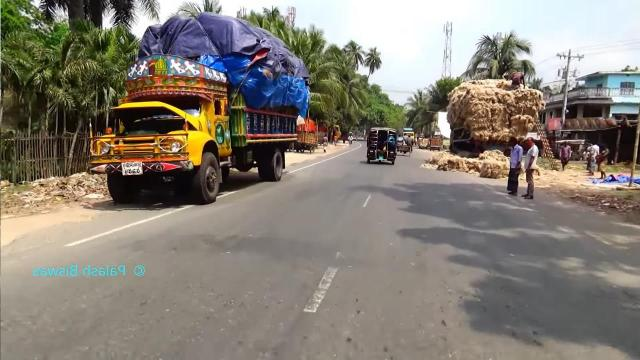truck: (93, 22, 306, 201)
